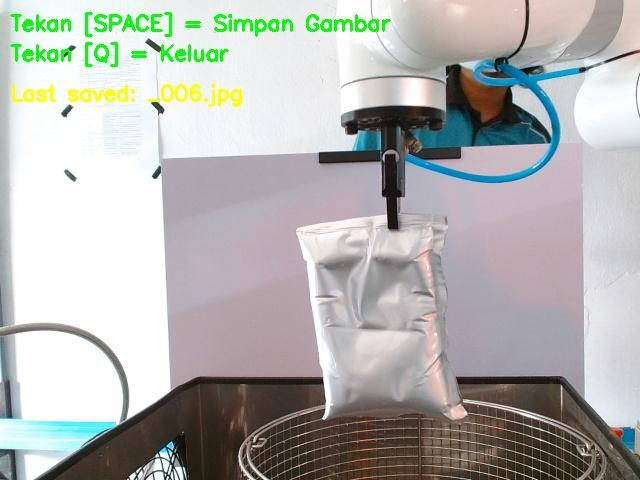retort-pouch: (295, 211, 470, 422)
